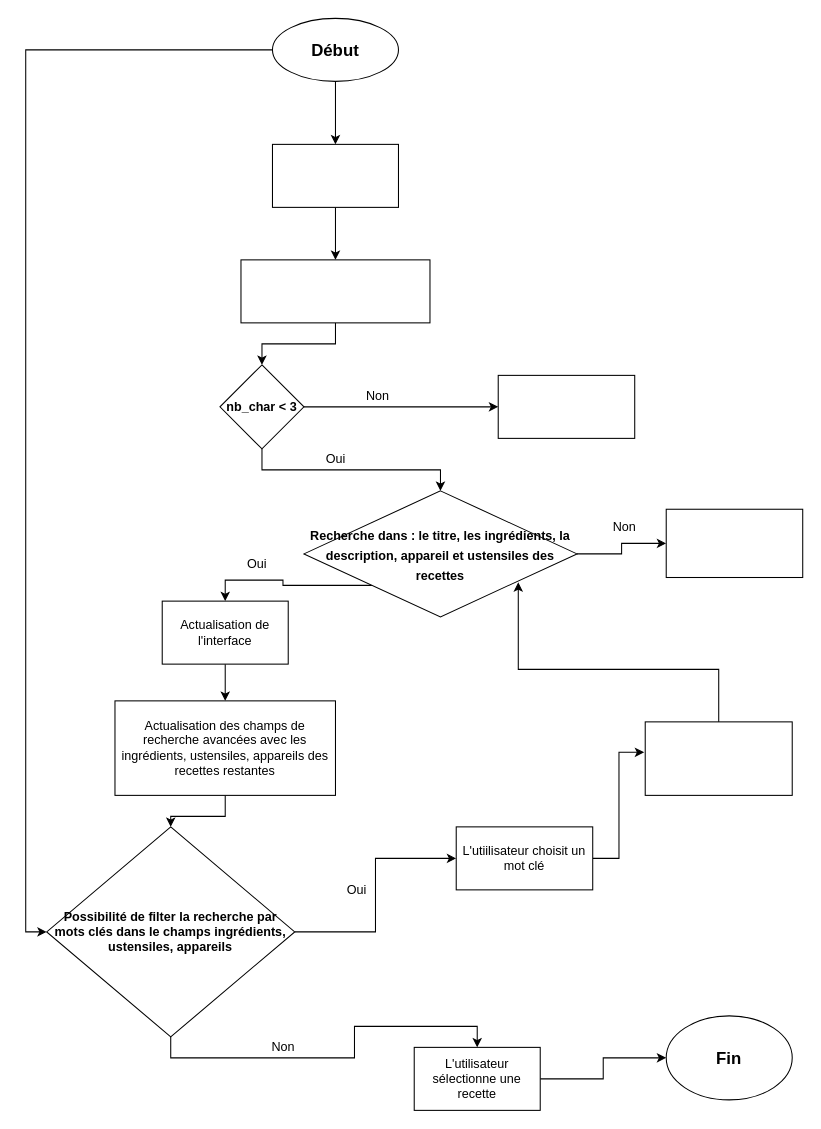
Image size: 821x1129. Some labels were removed from this diagram. Here are the shapes that lost their labels. From the top down, the centre of each, then its label:
At (334,175): "Recherche principale".
At (335,291): "nb_char = nombre de caractères dans la barre de recherche".
At (566,406): "Veuillez entrer au minimum 3 caractères".
At (734,543): "Aucune recherche ne correspond à votre critère".
At (718,758): "Le mot clé apparaît sous forme de tag sous la recherche principale".
